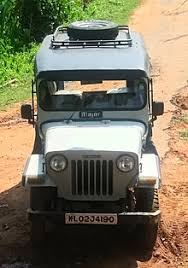Vehicle: (20, 16, 163, 249)
